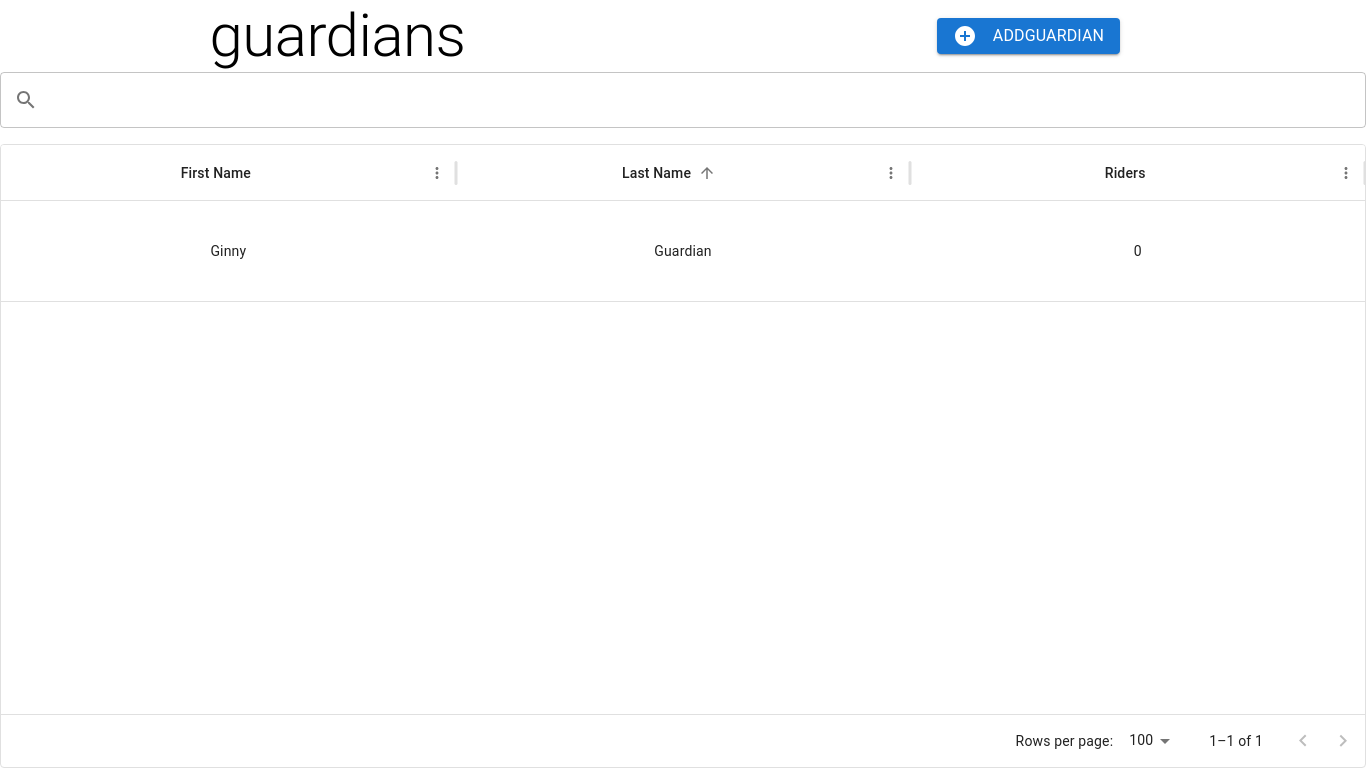
Test case: Guardians Tests › opens add guardian modal when add guardian button clicked, and closes on cancel click
What coordinates should you click on to do the following:
click the button "addGuardian"
I would click on:
 (1028, 36)
Its box is [937, 18, 1120, 54].
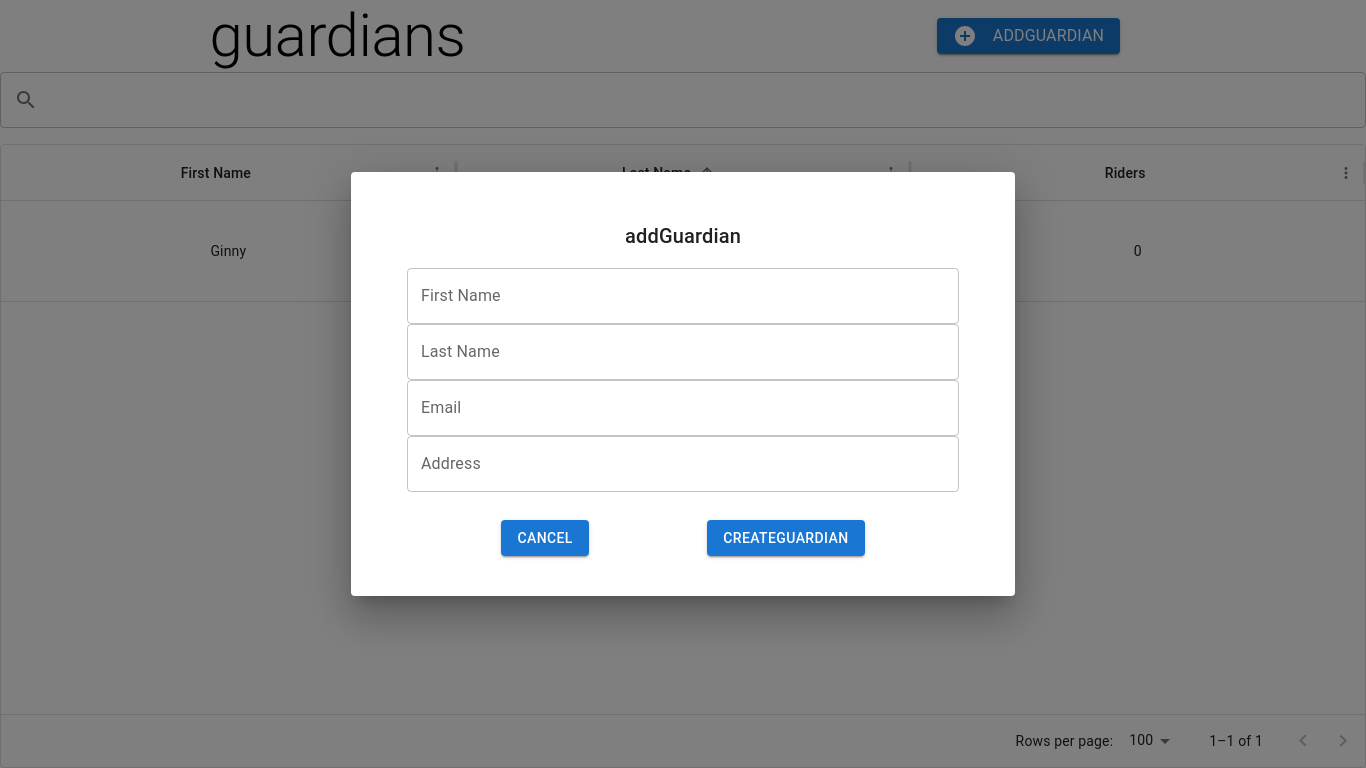
expect the button "createGuardian" is shown: met, box [707, 520, 865, 556]
expect the button "cancel" is shown: met
What coordinates should you click on to do the following:
click the button "cancel"
I would click on:
 (545, 538)
Its box is [501, 520, 589, 556].
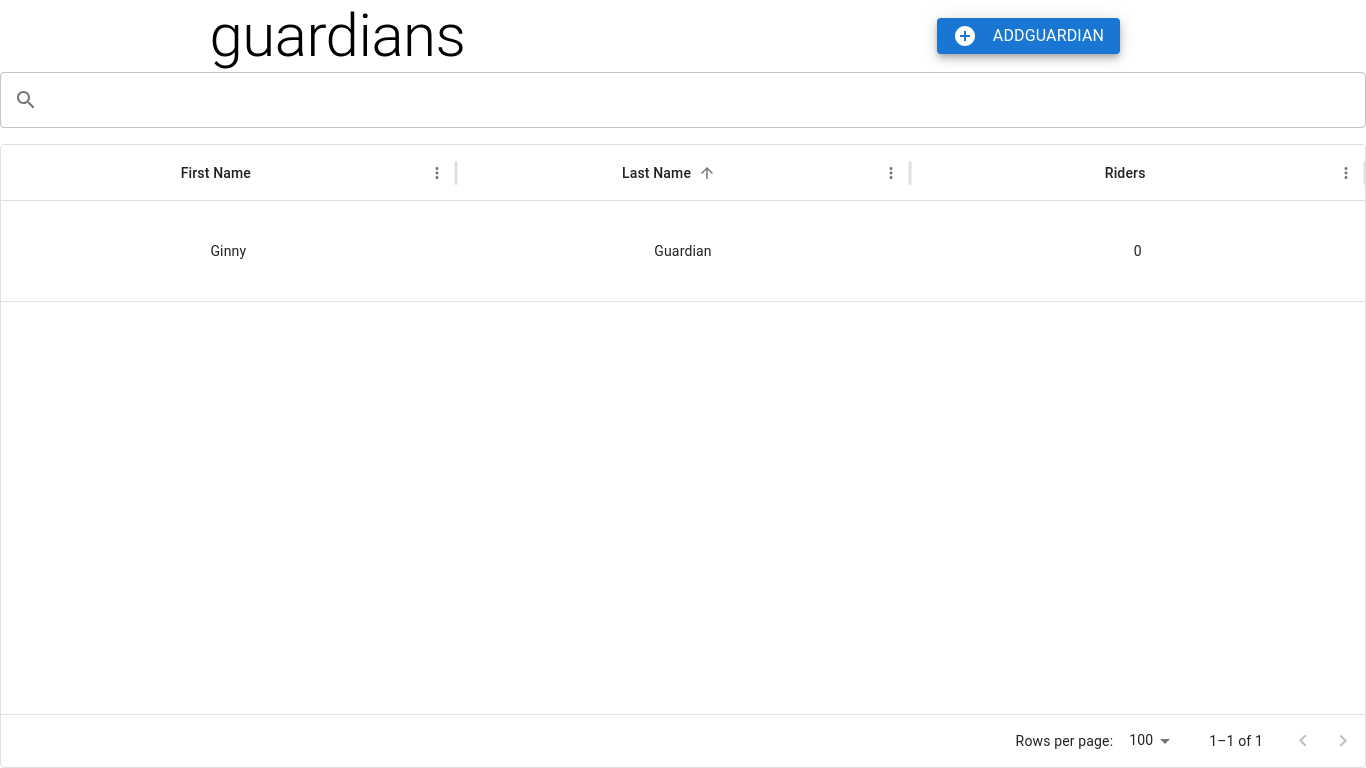
expect the button "cancel" is gone: met
